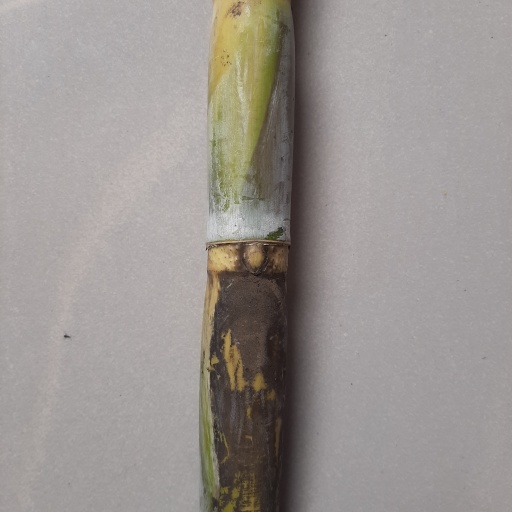Bud: (240, 242, 270, 277)
